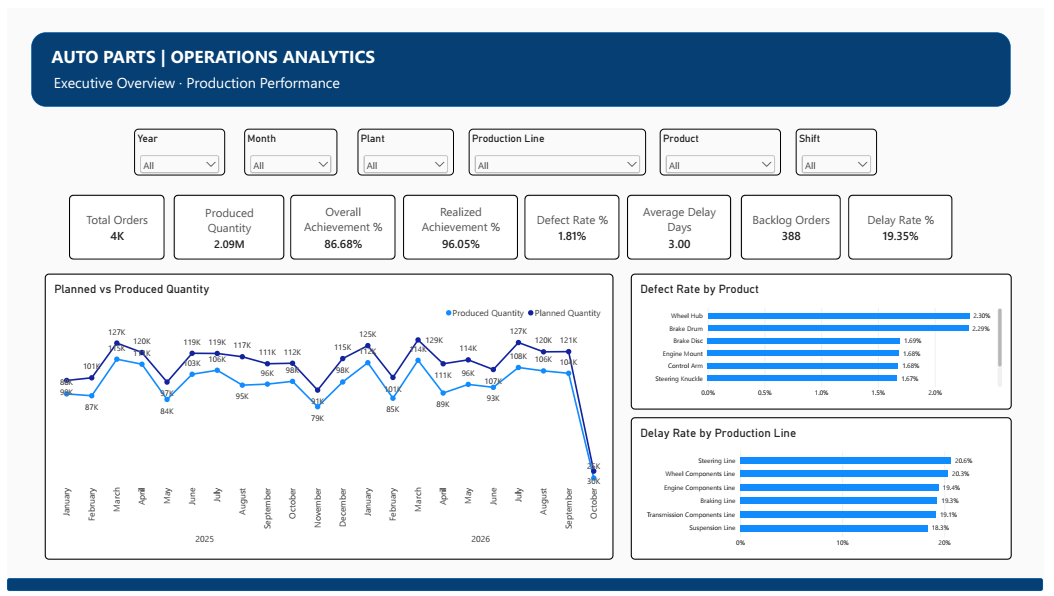

This screenshot's page, from the dashboard's own definition file:
{"tool":"powerbi","page":{"name":"Overview","canvas":[1920,1080],"ordinal":0},"visuals":[{"type":"shape","box":[45,45,1815,137.5],"z":0},{"type":"cardVisual","fields":{"Data":["_Measures.Total Orders"]},"box":[115.2,345.7,176.7,120],"z":1000},{"type":"cardVisual","fields":{"Data":["_Measures.Produced Quantity"]},"box":[308.6,345.7,205,120],"z":2000},{"type":"cardVisual","fields":{"Data":["_Measures.Achievement %"]},"box":[525.2,345.7,195,120],"z":3000},{"type":"cardVisual","fields":{"Data":["_Measures.Delay Rate %"]},"box":[1558.6,345.7,193.3,120],"z":4000},{"type":"cardVisual","fields":{"Data":["_Measures.Defect Rate %"]},"box":[958.6,345.7,176.7,120],"z":5000},{"type":"cardVisual","fields":{"Data":["_Measures.Realized Achievement %"]},"box":[733.6,345.7,213.3,120],"z":6000},{"type":"cardVisual","fields":{"Data":["_Measures.Average Delay Days"]},"box":[1148.6,345.7,193.3,120],"z":7000},{"type":"cardVisual","fields":{"Data":["_Measures.Backlog Orders"]},"box":[1360.2,345.7,185,120],"z":8000},{"type":"lineChart","title":"Planned vs Produced Quantity","fields":{"Category":["calendar.year","calendar.month_name"],"Y":["_Measures.Produced Quantity","_Measures.Planned Quantity"]},"box":[70,492,1054,530],"z":9000},{"type":"clusteredBarChart","title":"Delay Rate by Production Line","fields":{"Category":["production_lines.line_name"],"Y":["_Measures.Delay Rate %"]},"box":[1156,758,706,264],"z":10000},{"type":"clusteredBarChart","title":"Defect Rate by Product","fields":{"Category":["products.product_name"],"Y":["_Measures.Defect Rate %"]},"box":[1156,492,706,252],"z":11000},{"type":"textbox","box":[74,67.4,680,51.7],"z":12000},{"type":"textbox","box":[87.3,119,576.7,50],"z":13000},{"type":"slicer","title":"Year","fields":{"Values":["calendar.year"]},"box":[236,224,168,86],"z":14000},{"type":"slicer","title":"Month","fields":{"Values":["calendar.month_name"]},"box":[440,224,172,86],"z":15000},{"type":"slicer","title":"Plant","fields":{"Values":["production_lines.plant"]},"box":[650,224,178,86],"z":16000},{"type":"slicer","title":"Production Line","fields":{"Values":["production_lines.line_name"]},"box":[856,224,328,86],"z":17000},{"type":"slicer","title":"Product","fields":{"Values":["products.product_name"]},"box":[1210,224,224,86],"z":18000},{"type":"slicer","title":"Shift","fields":{"Values":["production_orders.shift"]},"box":[1462,224,150,86],"z":19000},{"type":"shape","box":[0,1056,1920,24],"z":20000}]}

Visuals, with their boxes in screenshot pixels (x1, y1, x2, y2), scaled from the page's 1920x1080 canvas onto the 1054x596 screenshot:
shape: detection(25, 25, 1021, 101)
cardVisual - _Measures.Total Orders: detection(63, 191, 160, 257)
cardVisual - _Measures.Produced Quantity: detection(169, 191, 282, 257)
cardVisual - _Measures.Achievement %: detection(288, 191, 395, 257)
cardVisual - _Measures.Delay Rate %: detection(856, 191, 962, 257)
cardVisual - _Measures.Defect Rate %: detection(526, 191, 623, 257)
cardVisual - _Measures.Realized Achievement %: detection(403, 191, 520, 257)
cardVisual - _Measures.Average Delay Days: detection(631, 191, 737, 257)
cardVisual - _Measures.Backlog Orders: detection(747, 191, 848, 257)
"Planned vs Produced Quantity" lineChart: detection(38, 272, 617, 564)
"Delay Rate by Production Line" clusteredBarChart: detection(635, 418, 1022, 564)
"Defect Rate by Product" clusteredBarChart: detection(635, 272, 1022, 411)
textbox: detection(41, 37, 414, 66)
textbox: detection(48, 66, 365, 93)
"Year" slicer: detection(130, 124, 222, 171)
"Month" slicer: detection(242, 124, 336, 171)
"Plant" slicer: detection(357, 124, 455, 171)
"Production Line" slicer: detection(470, 124, 650, 171)
"Product" slicer: detection(664, 124, 787, 171)
"Shift" slicer: detection(803, 124, 885, 171)
shape: detection(0, 583, 1053, 595)
